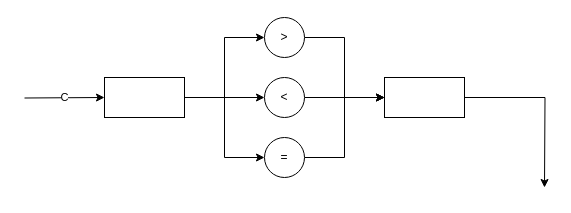
Image size: 571x213. Some labels were removed from this diagram. Here are the shapes that lost their labels. From the top down, the centre of each, then its label:
the point at 144,97: E1
the point at 424,97: E2
